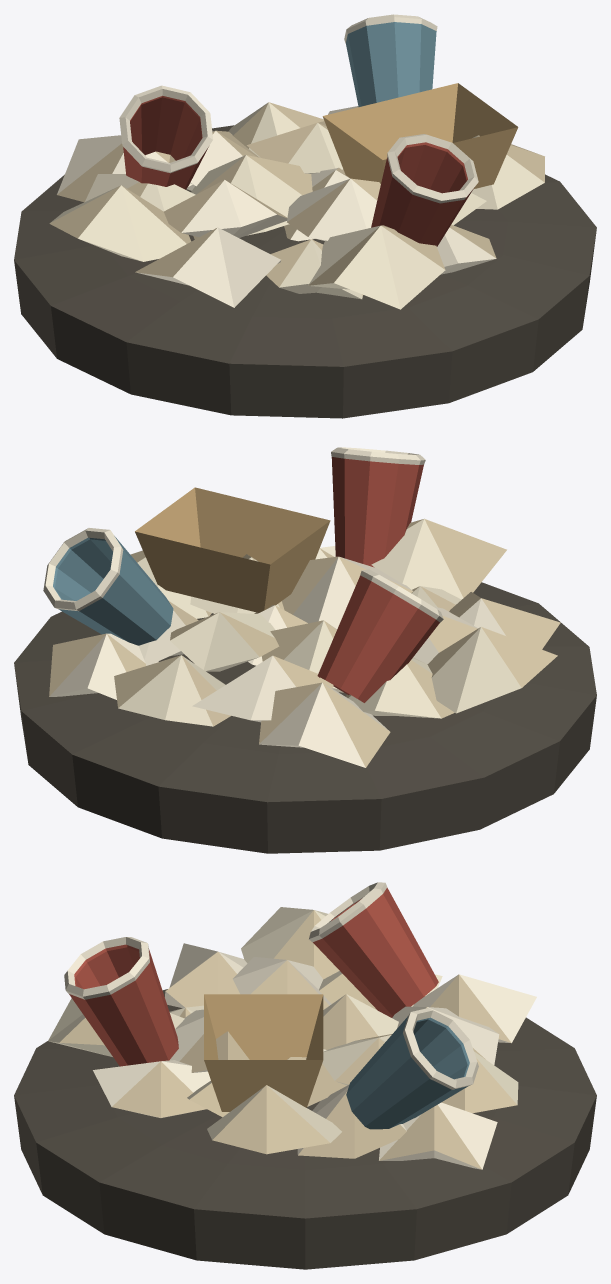
The model's file is lwf_bin_rubbish_full_v1.glb.
3 views of the same model, one above another, from view 1: azimuth 30°, elevation 25°; view 2: azimuth 150°, elevation 25°; view 3: azimuth 270°, elevation 25° (orthographic).
Parts seen in each view (by area): view 1: LWF_Bin_Rubbish_Full; view 2: LWF_Bin_Rubbish_Full; view 3: LWF_Bin_Rubbish_Full.
Boxes of the visible parts, x1,y1,x2,y2 form: LWF_Bin_Rubbish_Full: (14,14,596,418); LWF_Bin_Rubbish_Full: (14,447,596,853); LWF_Bin_Rubbish_Full: (14,882,596,1269).
Size of the model in its own units: 0.488 by 0.1988 by 0.488.
Materials: 1 (1 with a texture image).
